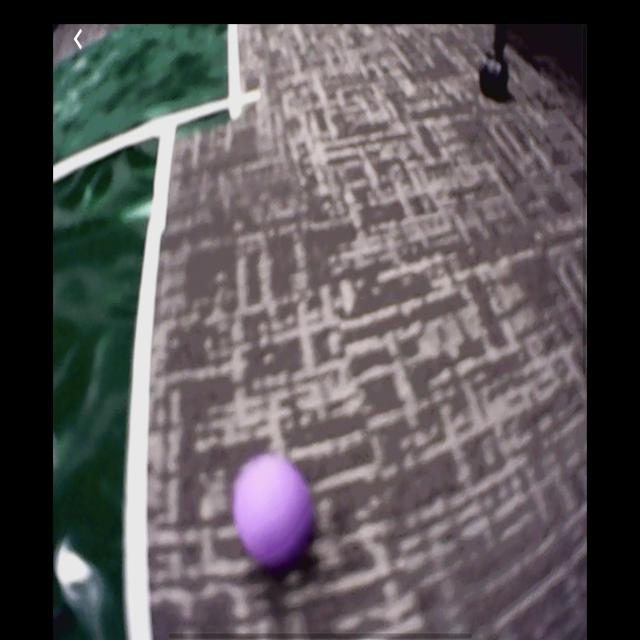ball: (231, 451, 315, 572)
